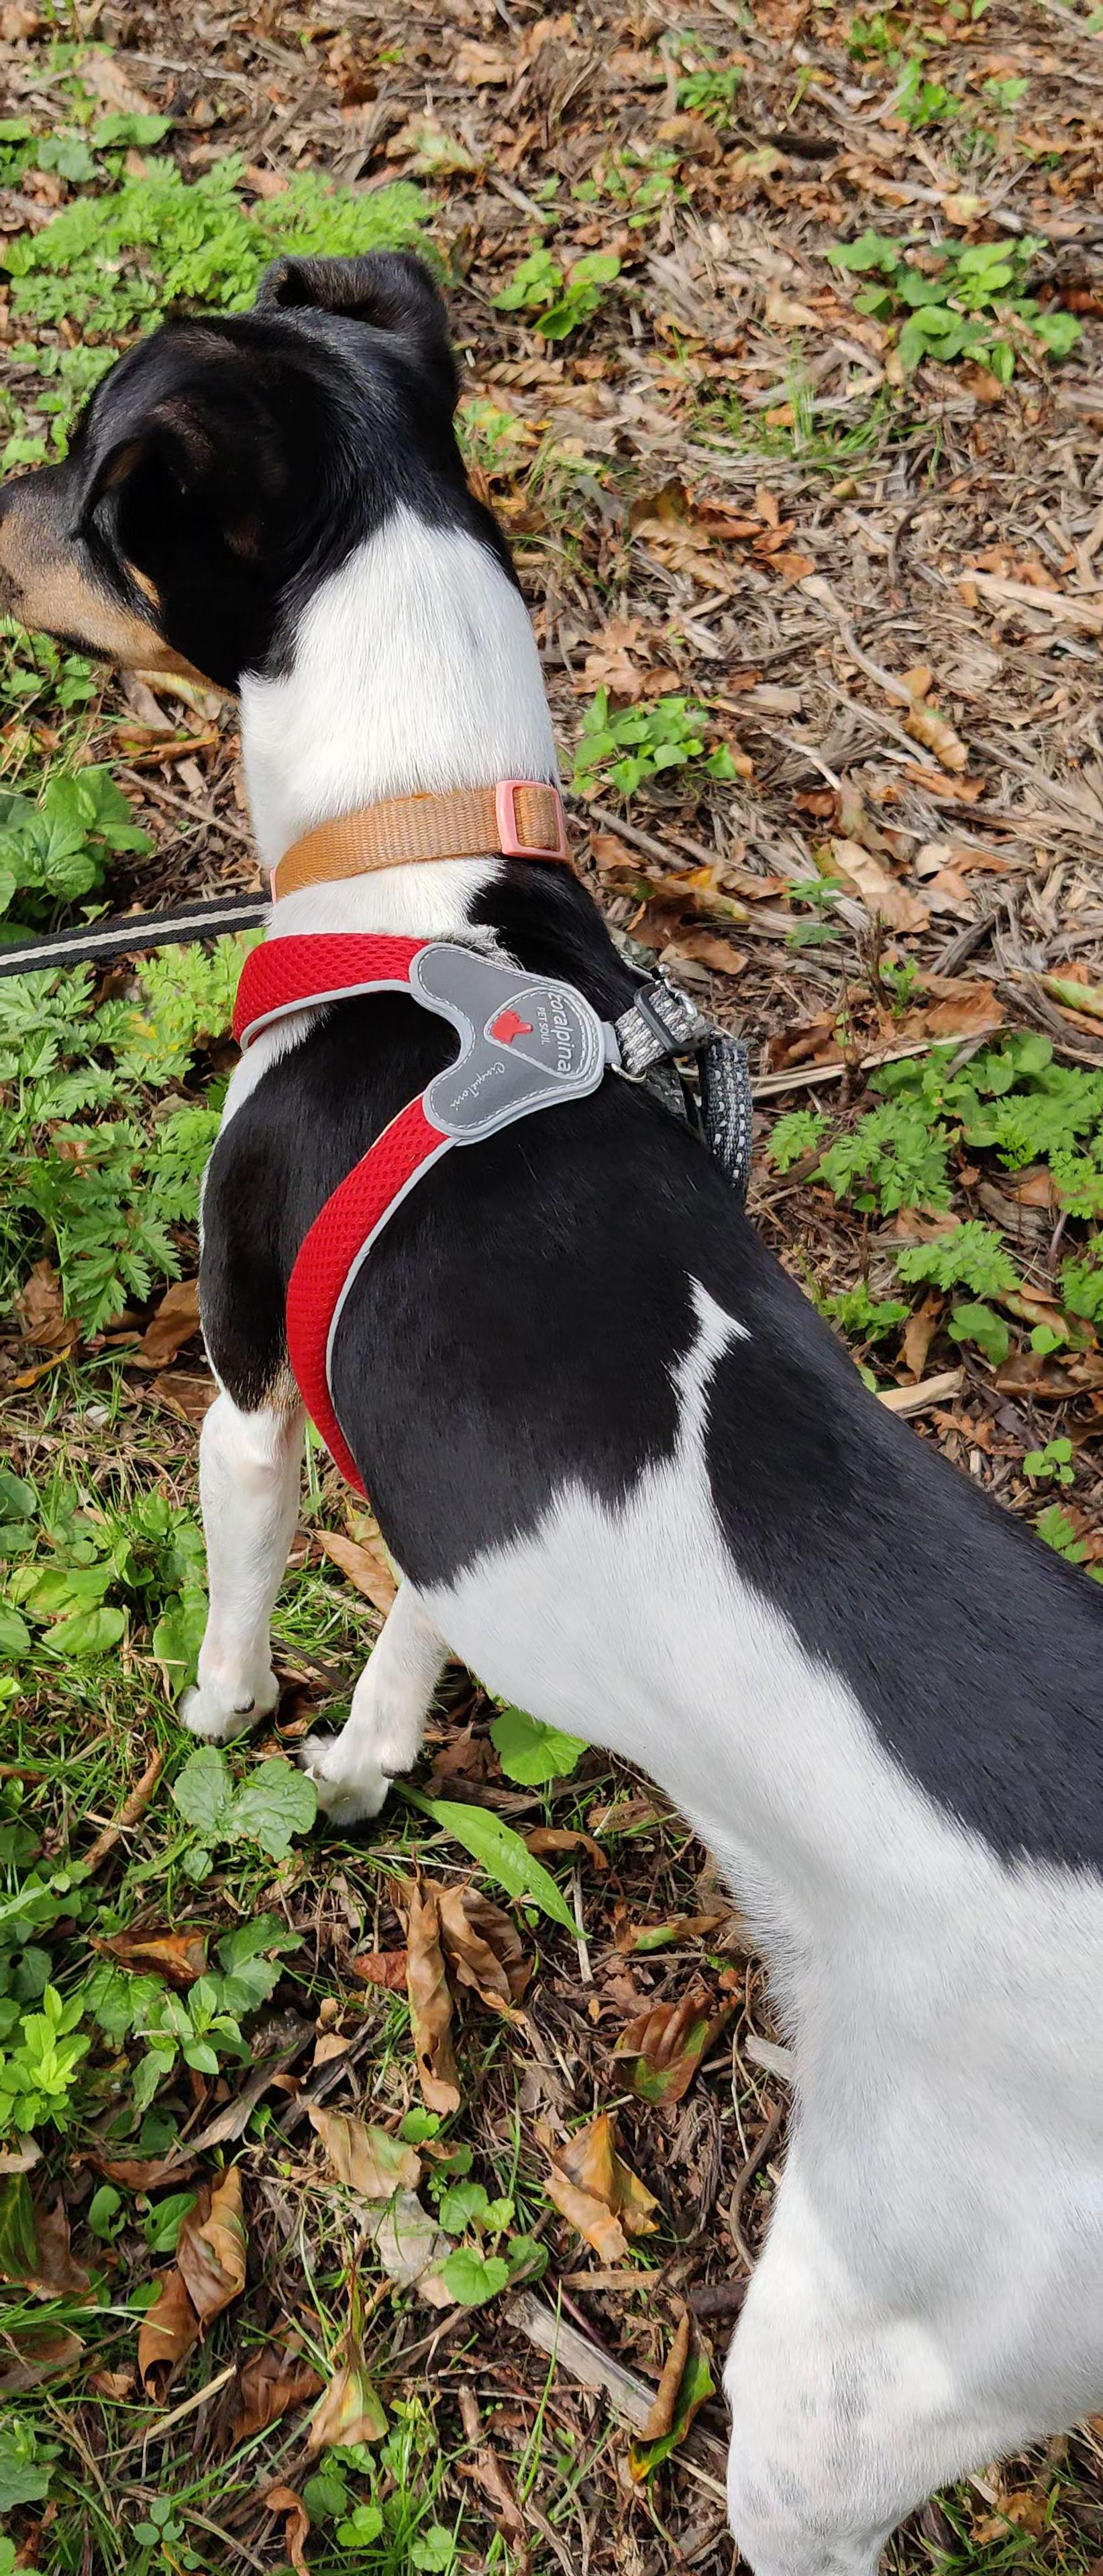Dog: (0, 240, 1103, 2576)
